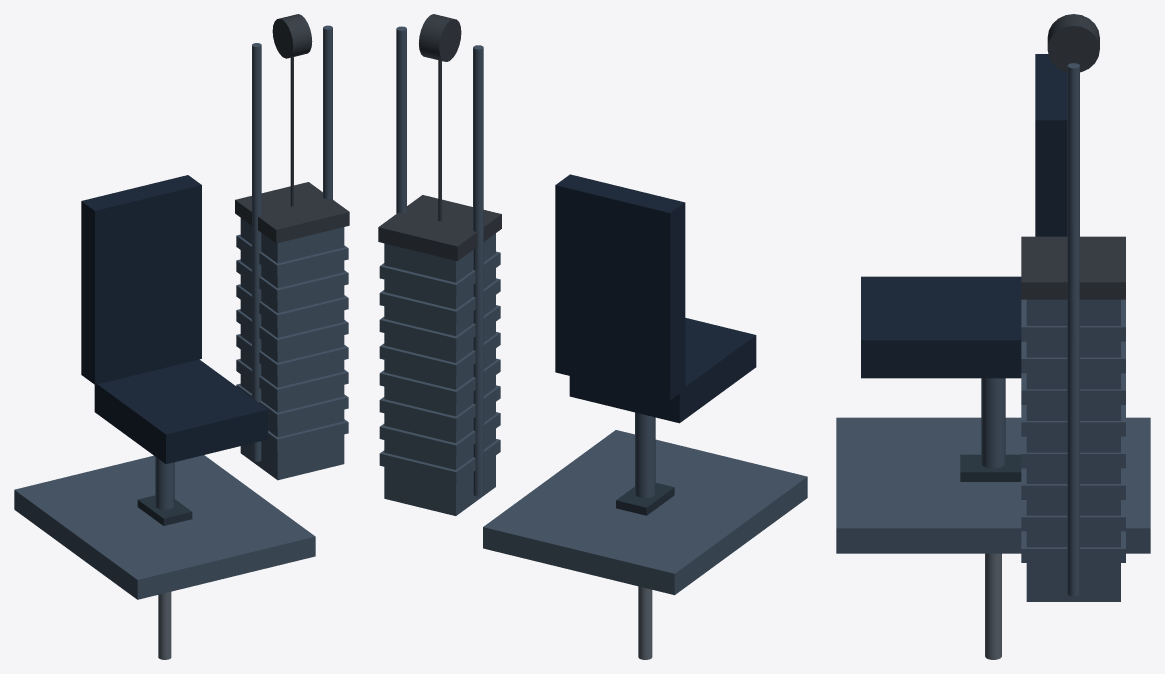
File: hip_abduction.glb
The picture shows the model from 3 angles, left to right: view 1: azimuth 30°, elevation 25°; view 2: azimuth 150°, elevation 25°; view 3: azimuth 270°, elevation 25°; orthographic projection. The views are drawn at different scales.
Parts seen in each view (by area): view 1: base, back, stack, seat, weightPlate (×8), guide (×2), stackLift, loadPulley, post, LlegLink, LkneePad, loadCable; view 2: base, back, stack, weightPlate (×8), seat, guide (×2), stackLift, post, loadPulley, LlegLink, LkneePad, loadCable; view 3: base, seat, stack, weightPlate (×8), guide, stackLift, back, loadPulley, post, LlegLink, LkneePad.
Boxes of the visible parts, box(x1,y1,x2,y2) form: base: box(14, 455, 315, 599); back: box(81, 175, 201, 384); stack: box(240, 218, 344, 480); seat: box(94, 359, 267, 464); weightPlate (×8): box(236, 234, 348, 450); guide (×2): box(252, 25, 332, 461); stackLift: box(235, 182, 349, 243); loadPulley: box(272, 14, 312, 58); post: box(155, 457, 174, 509); LlegLink: box(158, 592, 171, 659); LkneePad: box(137, 495, 192, 525); loadCable: box(290, 57, 293, 206); base: box(483, 430, 807, 595); back: box(555, 174, 685, 400); stack: box(384, 233, 495, 515); weightPlate (×8): box(379, 251, 500, 484); seat: box(569, 318, 756, 423); guide (×2): box(396, 26, 483, 496); stackLift: box(378, 195, 501, 261); post: box(635, 412, 655, 497); loadPulley: box(419, 14, 461, 61); LlegLink: box(638, 586, 652, 659); LkneePad: box(616, 483, 674, 515); loadCable: box(438, 60, 441, 221); base: box(836, 417, 1150, 553); seat: box(861, 276, 1021, 378); stack: box(1026, 299, 1120, 601); weightPlate (×8): box(1021, 299, 1125, 562); guide: box(1067, 63, 1079, 596); stackLift: box(1021, 236, 1125, 299); back: box(1035, 54, 1067, 236); loadPulley: box(1047, 14, 1099, 72); post: box(981, 378, 1005, 468); LlegLink: box(985, 553, 1001, 659); LkneePad: box(960, 454, 1021, 481).
Size of the model in its own units: 1.21 by 2.33 by 0.9.
